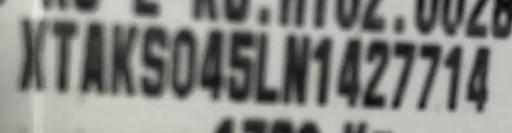letter: (15, 15, 53, 94), (106, 19, 144, 96), (332, 35, 368, 110), (49, 16, 83, 95), (280, 32, 316, 105), (437, 43, 473, 114), (224, 29, 258, 104), (360, 37, 394, 112), (412, 39, 446, 114), (137, 21, 171, 96), (386, 35, 418, 112), (78, 18, 110, 95), (252, 33, 286, 104), (462, 45, 496, 116), (196, 24, 228, 97), (168, 27, 200, 96), (310, 35, 338, 108)
